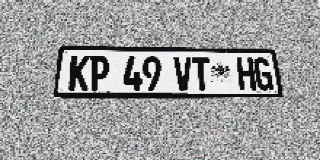4: (123, 56, 142, 91)
9: (143, 56, 161, 90)
G: (253, 58, 274, 90)
H: (236, 57, 256, 90)
K: (68, 55, 90, 91)
P: (89, 55, 109, 91)
T: (192, 57, 211, 90)
V: (174, 57, 193, 90)
